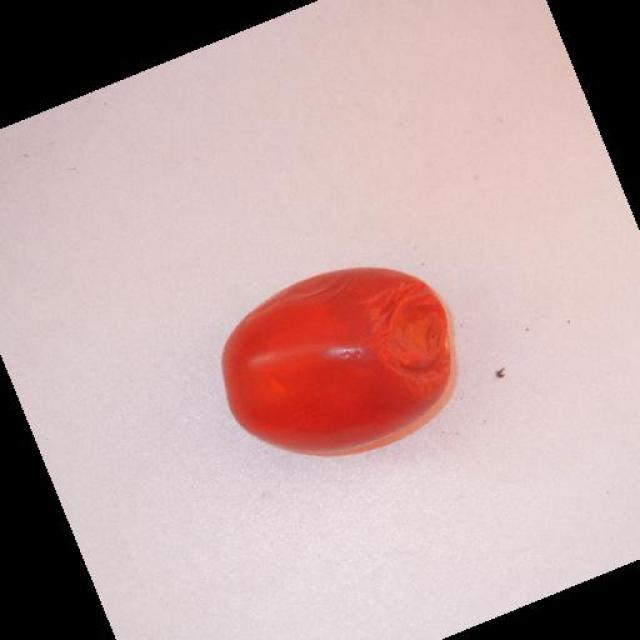Rotten Tomato: (224, 258, 456, 456)
